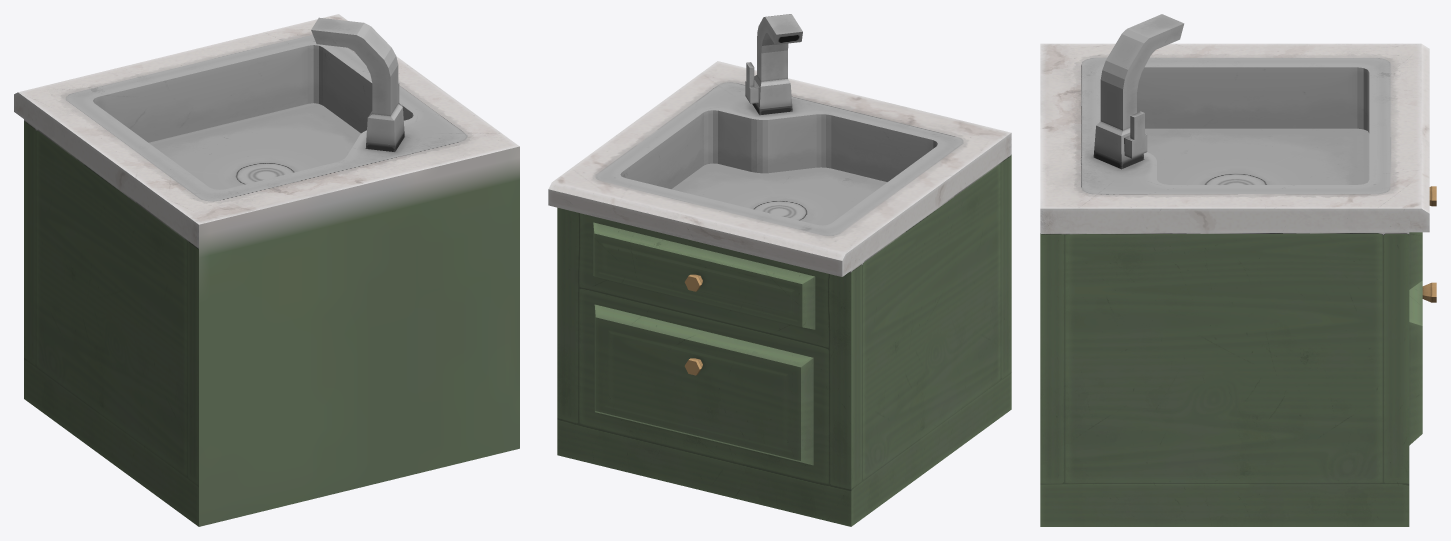
The model's file is P_Cupboard_005_S1_M03.obj.
3 renders of one model, left to right at view 1: azimuth 30°, elevation 25°; view 2: azimuth 150°, elevation 25°; view 3: azimuth 270°, elevation 25°, orthographic. The views are drawn at different scales.
Size of the model in its own units: 1 by 1.23 by 1.02.
Materials: 1 (1 with a texture image).
